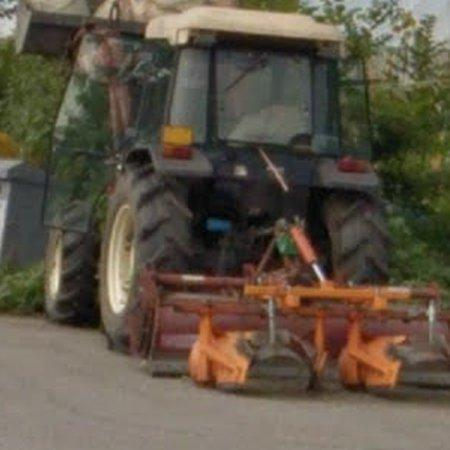tractors: (18, 0, 389, 352)
